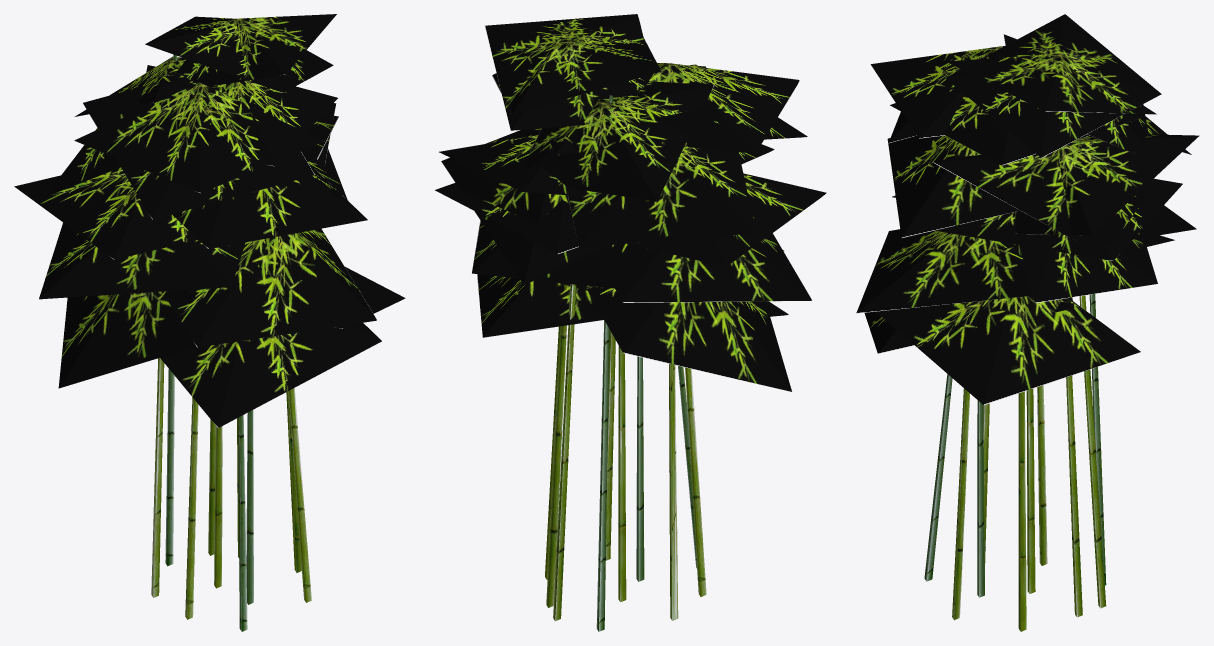
The model's file is bamboo_a.dae.
3 views of the same model, side by side, from view 1: azimuth 30°, elevation 25°; view 2: azimuth 150°, elevation 25°; view 3: azimuth 270°, elevation 25° (orthographic). The views are drawn at different scales.
Visible parts, largest first — view 1: Tube; view 2: Tube; view 3: Tube.
Part boxes in pixels (left/top/right/bottom): Tube: left=14, top=14, right=405, bottom=631; Tube: left=434, top=14, right=826, bottom=631; Tube: left=856, top=14, right=1199, bottom=631.
Bounding box in the file's own units: 9.8 × 8.28 × 14.77.
